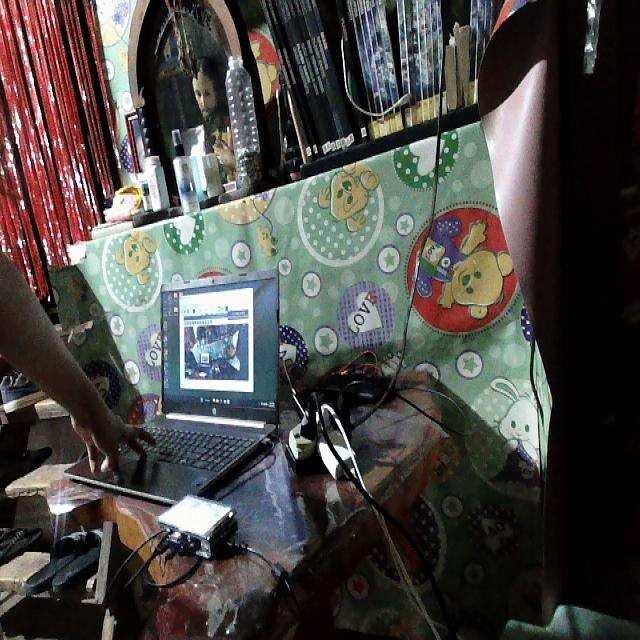-: (281, 377, 369, 484)
